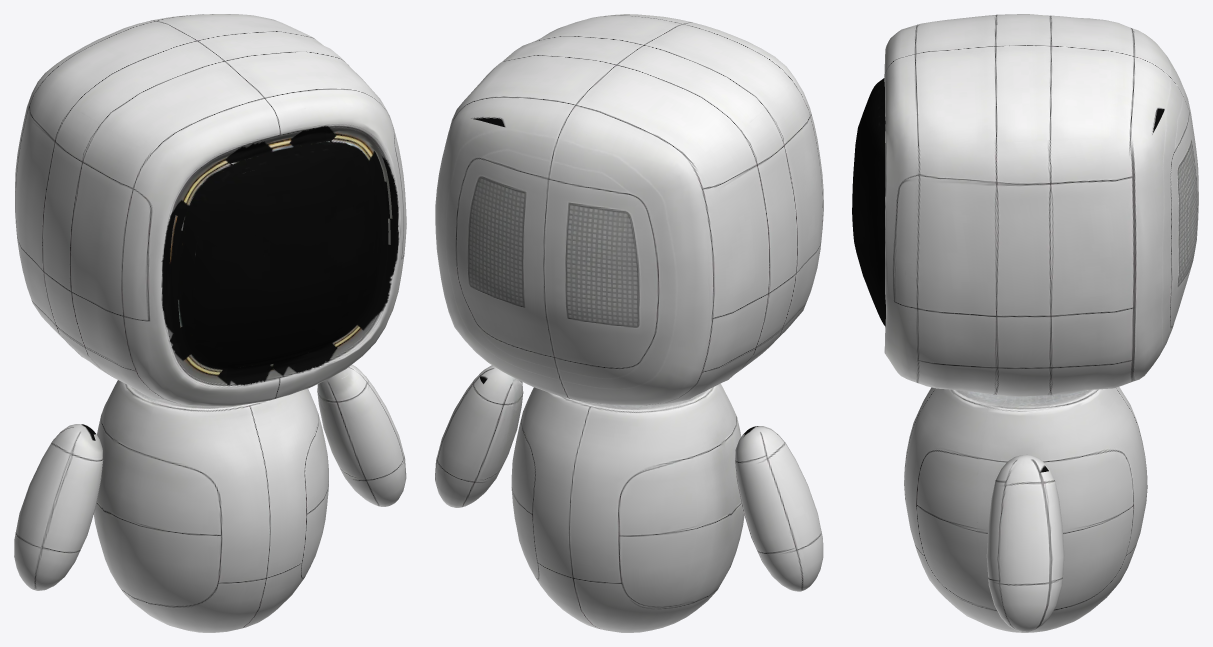
File: t4bot.glb
The picture shows the model from 3 angles, left to right: view 1: azimuth 30°, elevation 25°; view 2: azimuth 150°, elevation 25°; view 3: azimuth 270°, elevation 25°; orthographic projection.
Parts seen in each view (by area): view 1: Head, Body, ArmL, ArmR; view 2: Head, Body, ArmL, ArmR; view 3: Head, Body, ArmR.
Part boxes in pixels (box(x1,y1,x2,y2)): Head: box(15, 14, 406, 406); Body: box(93, 380, 328, 632); ArmL: box(14, 424, 103, 590); ArmR: box(317, 364, 406, 506); Head: box(435, 14, 823, 405); Body: box(511, 383, 744, 632); ArmL: box(735, 426, 823, 591); ArmR: box(435, 365, 523, 507); Head: box(852, 14, 1198, 396); Body: box(904, 387, 1147, 632); ArmR: box(986, 454, 1064, 631).
Size of the model in its own units: 1.39 by 2 by 1.09.
Materials: 1 (1 with a texture image).
